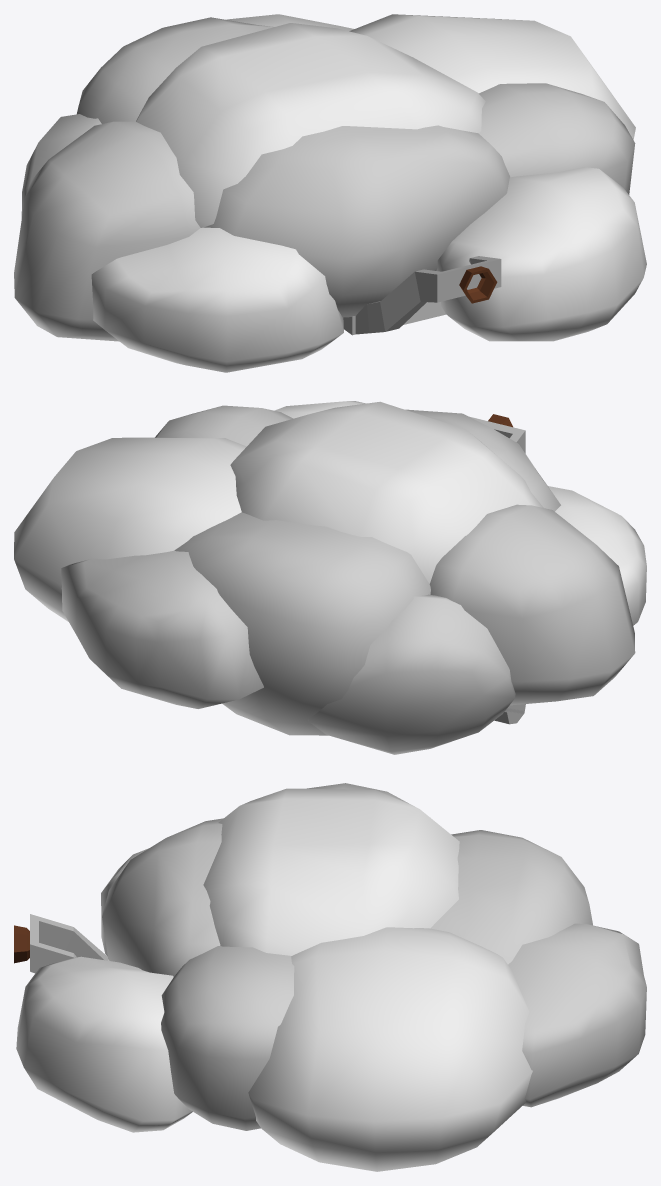
Rendered from Cloud 1.fbx.
3 renders of one model, top to bottom at view 1: azimuth 30°, elevation 25°; view 2: azimuth 150°, elevation 25°; view 3: azimuth 270°, elevation 25°, orthographic. The views are drawn at different scales.
Visible parts, largest first — view 1: Kart_Customs_05:Cloud; view 2: Kart_Customs_05:Cloud; view 3: Kart_Customs_05:Cloud.
Boxes of the visible parts, x1,y1,x2,y2 form: Kart_Customs_05:Cloud: (14,14,646,372); Kart_Customs_05:Cloud: (14,401,646,754); Kart_Customs_05:Cloud: (14,783,646,1171).
Size of the model in its own units: 208 by 84.47 by 191.
